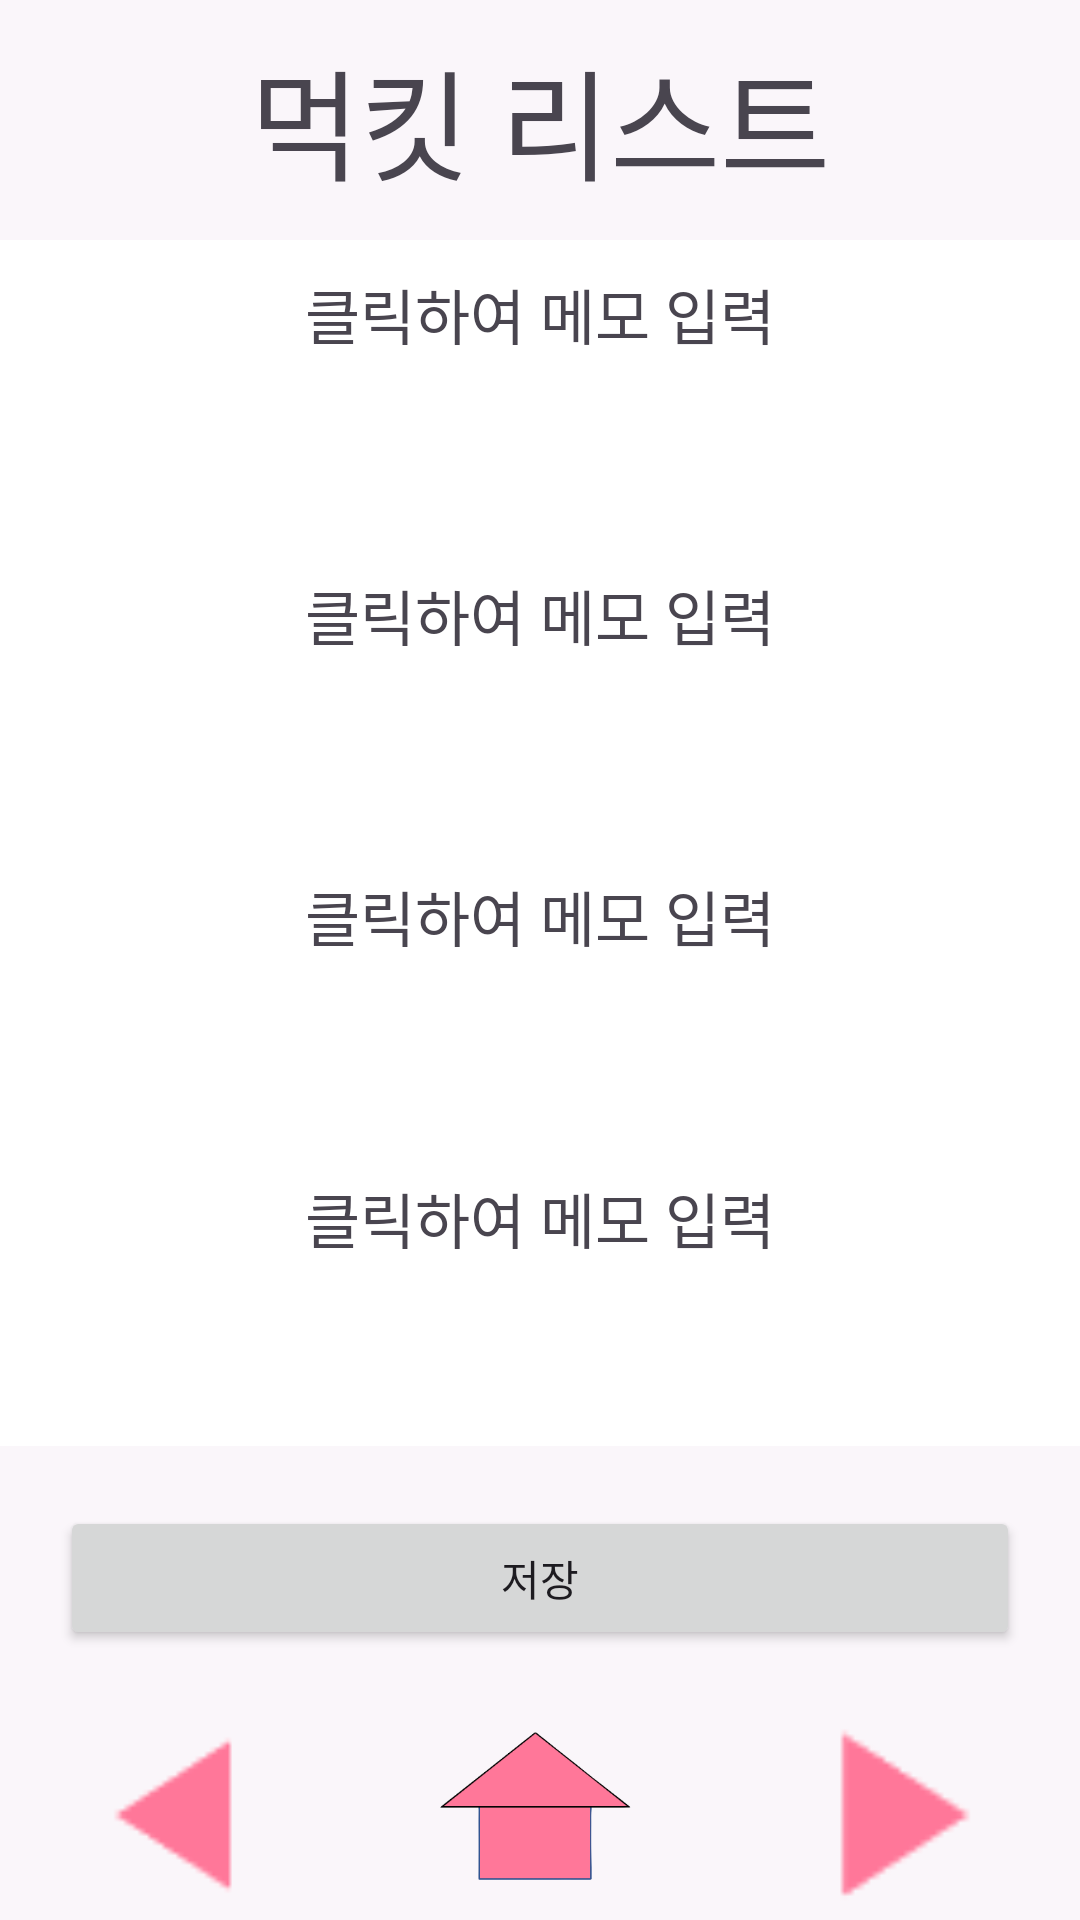

Where icons sit on this 1080x1920 app screen, as (x1, y1, x2, y2):
back: (116, 1741, 232, 1889)
home: (440, 1732, 630, 1880)
